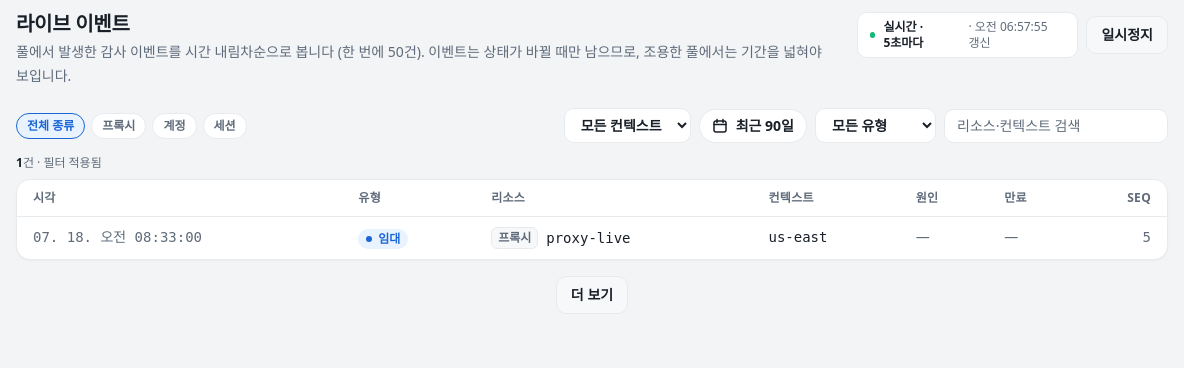
Test: 라이브 이벤트 화면 (integration + MSW) › 더 보기 도중 늦게 도착한 폴링 응답이 과거 목록을 덮어쓰지 않는다
Check: the text "proxy-live" is shown, box 546,228 -> 631,248
# 폴링 응답 도착 전에 더 보기 → 과거 append + 과거 보기 전환.
Click the button "더 보기" at (592, 295), box 556,276 -> 628,314
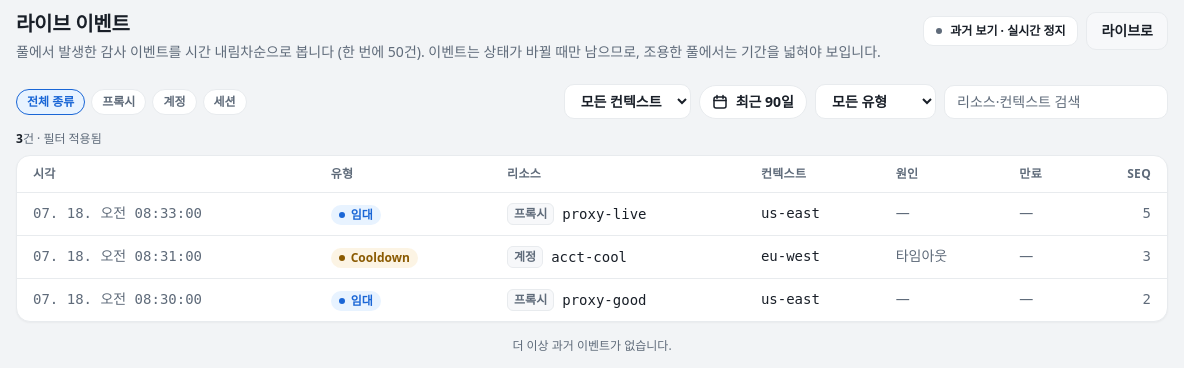
Check: the text "proxy-live" is shown, box 562,204 -> 646,224
Check: the text "acct-cool" is shown, box 551,247 -> 627,267
Check: the text "과거 보기 · 실시간 정지" is shown, box 950,23 -> 1066,39
